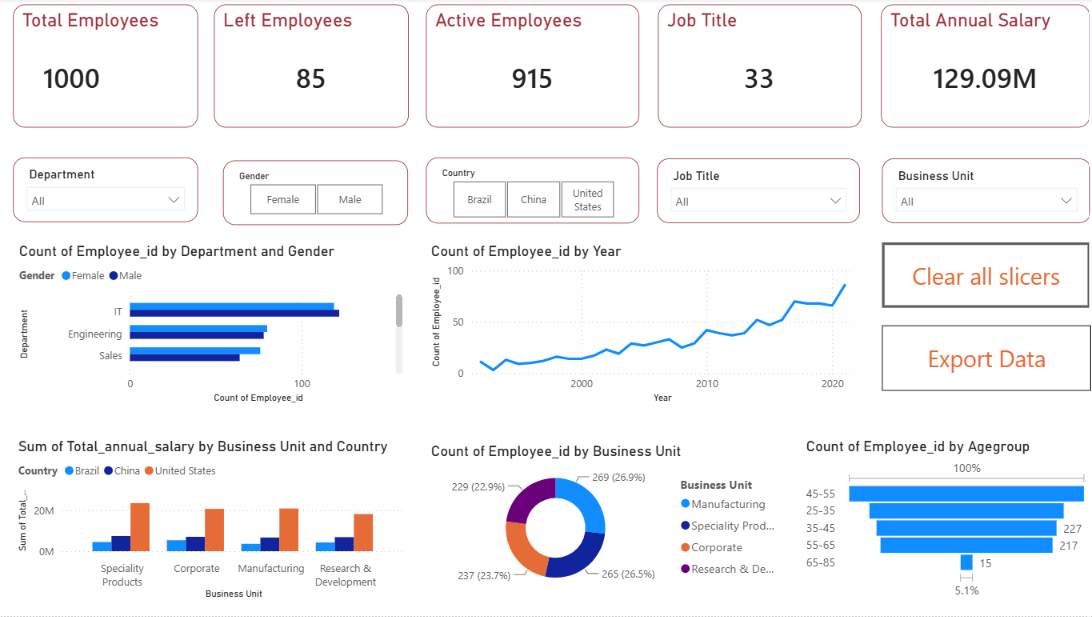

This screenshot's page, from the dashboard's own definition file:
{"tool":"powerbi","page":{"name":"Main dashboard","canvas":[1280,720],"ordinal":0},"visuals":[{"type":"cardVisual","title":"Total Employees","fields":{"Data":["Count(Employee.Employee_id)"]},"box":[15,6.7,215,143.3],"z":0},{"type":"cardVisual","title":"Left Employees","fields":{"Data":["Sum(Employee.leftData)"]},"box":[248.3,6.7,226.7,143.3],"z":1000},{"type":"cardVisual","title":"Active Employees","fields":{"Data":["Employee.ActiveCount"]},"box":[495,6.7,248.3,143.3],"z":2000},{"type":"cardVisual","title":"Job Title","fields":{"Data":["Count(Employee.Job Title)"]},"box":[765,6.7,236.7,143.3],"z":3000},{"type":"cardVisual","title":"Total Annual Salary","fields":{"Data":["Sum(Employee.Total_annual_salary)"]},"box":[1025,6.7,243.3,143.3],"z":4000},{"type":"slicer","fields":{"Values":["Employee.Gender"]},"box":[259.3,188,215.4,75.5],"z":6000},{"type":"slicer","fields":{"Values":["Employee.Department"]},"box":[15.1,185.2,215.4,75.5],"z":6001},{"type":"slicer","fields":{"Values":["Employee.Country"]},"box":[495.4,185.2,248.4,76.8],"z":6002},{"type":"slicer","fields":{"Values":["Employee.Job Title"]},"box":[764.3,186.6,236,75.5],"z":6003},{"type":"slicer","fields":{"Values":["Employee.Business Unit"]},"box":[1025,186.6,242.9,75.5],"z":6004},{"type":"actionButton","box":[1026,284,242,76],"z":6005},{"type":"actionButton","box":[1026,380,244,76],"z":6006},{"type":"clusteredBarChart","fields":{"Category":["Employee.Department"],"Y":["CountNonNull(Employee.Employee_id)"],"Series":["Employee.Gender"]},"box":[18,284,456,192],"z":6007},{"type":"clusteredColumnChart","fields":{"Y":["Sum(Employee.Total_annual_salary)"],"Category":["Employee.Business Unit"],"Series":["Employee.Country"]},"box":[16.7,510,460,193.3],"z":6008},{"type":"donutChart","fields":{"Category":["Employee.Business Unit"],"Y":["CountNonNull(Employee.Employee_id)"]},"box":[496.7,516.7,423.3,180],"z":6009},{"type":"funnel","fields":{"Category":["Employee.Agegroup"],"Y":["CountNonNull(Employee.Employee_id)"]},"box":[932,510,338,192],"z":6010},{"type":"lineChart","fields":{"Y":["CountNonNull(Employee.Employee_id)"],"Category":["Employee.Hire Date.Variation.Date Hierarchy.Year"]},"box":[496,284,504,192],"z":6011}]}

Visuals, with their boxes in screenshot pixels (x1, y1, x2, y2), scaled from the page's 1280x720 canvas onto the 1092x617 screenshot:
"Total Employees" cardVisual: region(13, 6, 196, 129)
"Left Employees" cardVisual: region(212, 6, 405, 129)
"Active Employees" cardVisual: region(422, 6, 634, 129)
"Job Title" cardVisual: region(653, 6, 855, 129)
"Total Annual Salary" cardVisual: region(874, 6, 1082, 129)
slicer - Employee.Gender: region(221, 161, 405, 226)
slicer - Employee.Department: region(13, 159, 197, 223)
slicer - Employee.Country: region(423, 159, 635, 225)
slicer - Employee.Job Title: region(652, 160, 853, 225)
slicer - Employee.Business Unit: region(874, 160, 1082, 225)
actionButton: region(875, 243, 1082, 308)
actionButton: region(875, 326, 1083, 391)
clusteredBarChart - Employee.Department x CountNonNull(Employee.Employee_id): region(15, 243, 404, 408)
clusteredColumnChart - Sum(Employee.Total_annual_salary) x Employee.Business Unit: region(14, 437, 407, 603)
donutChart - Employee.Business Unit x CountNonNull(Employee.Employee_id): region(424, 443, 785, 597)
funnel - Employee.Agegroup x CountNonNull(Employee.Employee_id): region(795, 437, 1083, 602)
lineChart - CountNonNull(Employee.Employee_id) x Employee.Hire Date.Variation.Date Hierarchy.Year: region(423, 243, 853, 408)
